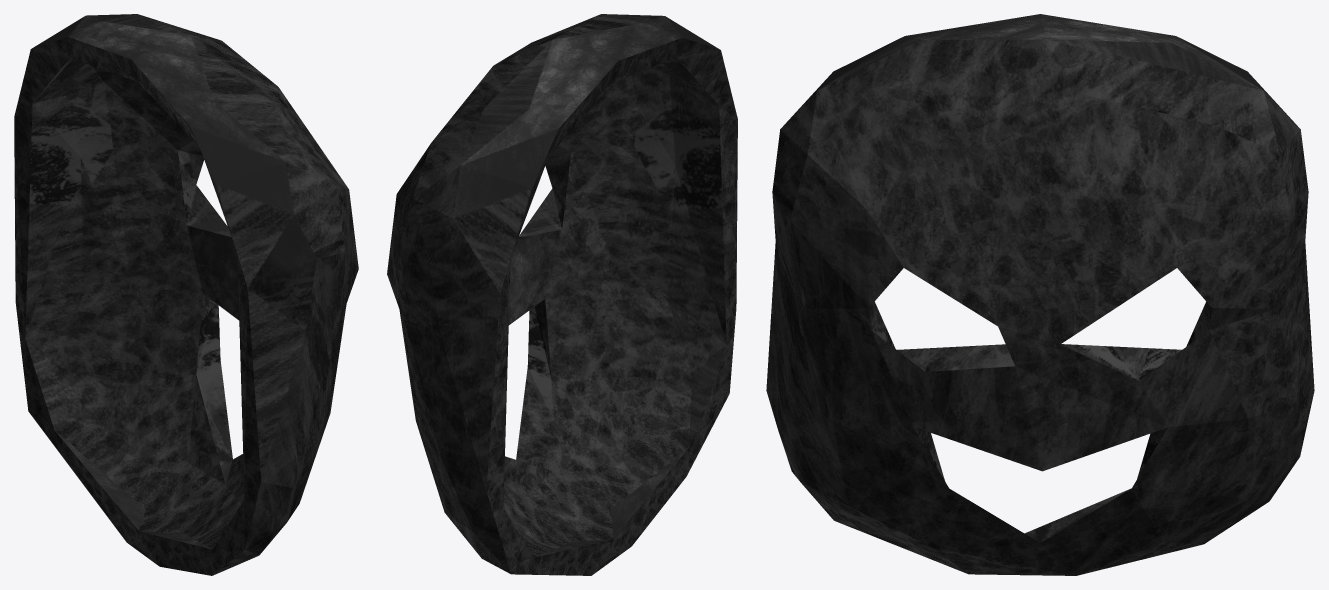
Rendered from StoneMask.glb.
The picture shows the model from 3 angles, left to right: view 1: azimuth 30°, elevation 25°; view 2: azimuth 150°, elevation 25°; view 3: azimuth 270°, elevation 25°; orthographic projection. The views are drawn at different scales.
Visible parts, largest first — view 1: Quad Sphere; view 2: Quad Sphere; view 3: Quad Sphere.
Boxes of the visible parts, x1,y1,x2,y2 form: Quad Sphere: (14, 14, 358, 575); Quad Sphere: (387, 14, 737, 575); Quad Sphere: (766, 14, 1314, 575).
Bounding box in the file's own units: 1.3 × 3.62 × 3.2.
Materials: 1 (1 with a texture image).
